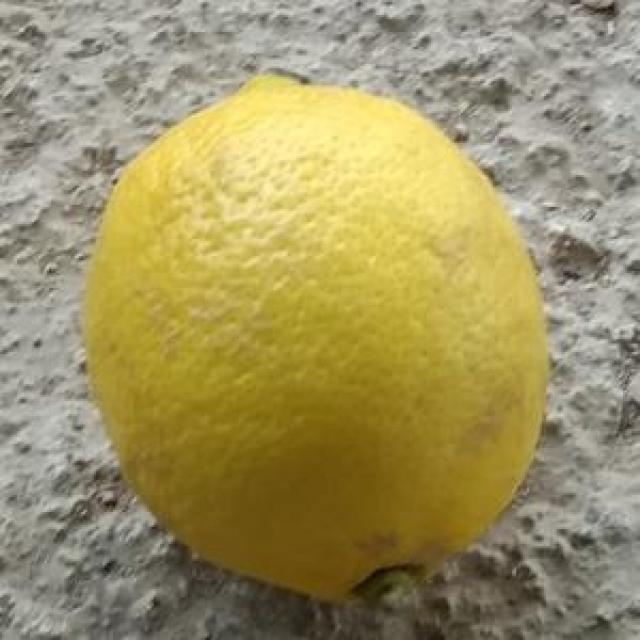lemon: (80, 73, 552, 602)
